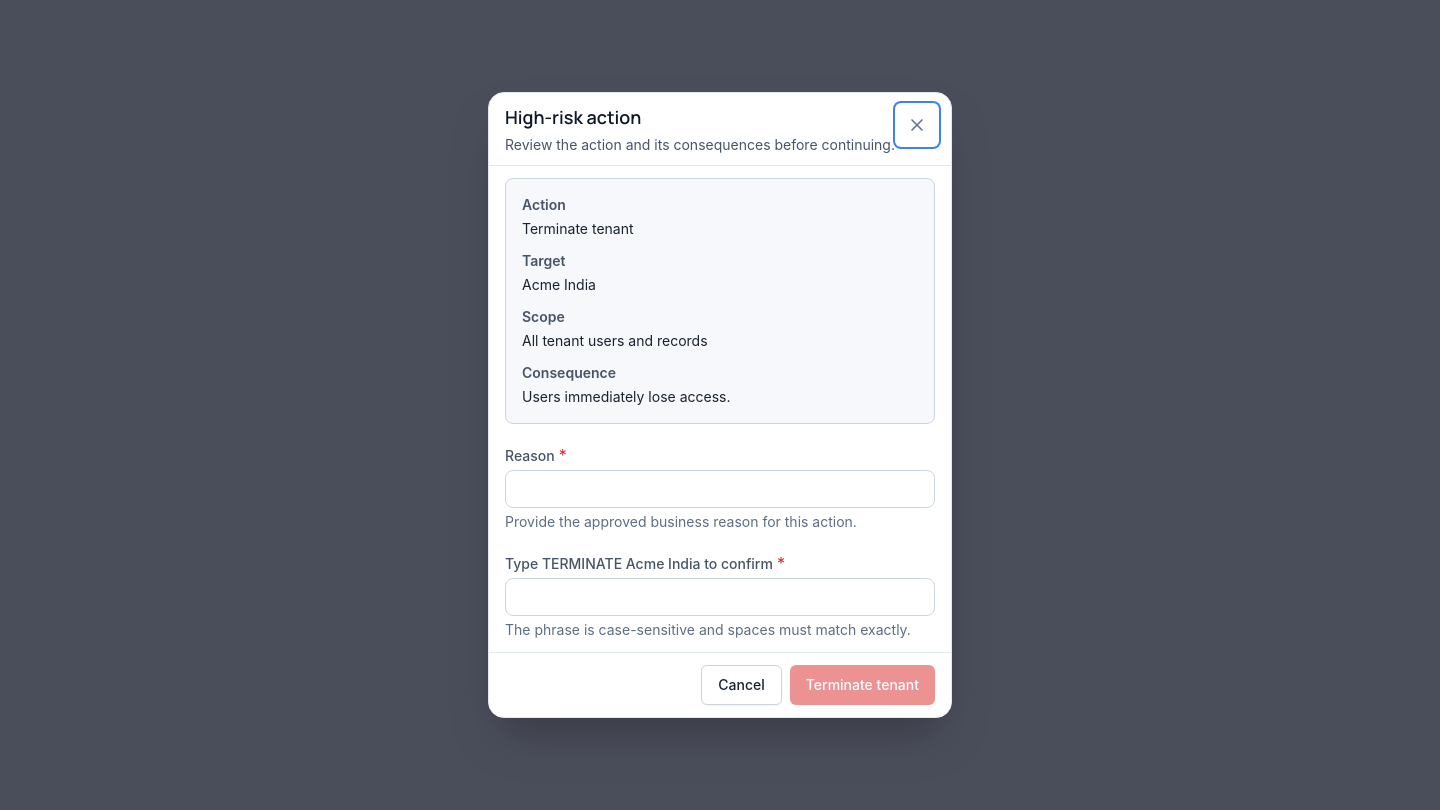
Test case: HighRiskActionDialog › preserves both values and shows friendly recovery when confirmation fails
Type "Security review approved" into the field labelled "Reason" at x=720, y=489, box [505, 470, 935, 508]
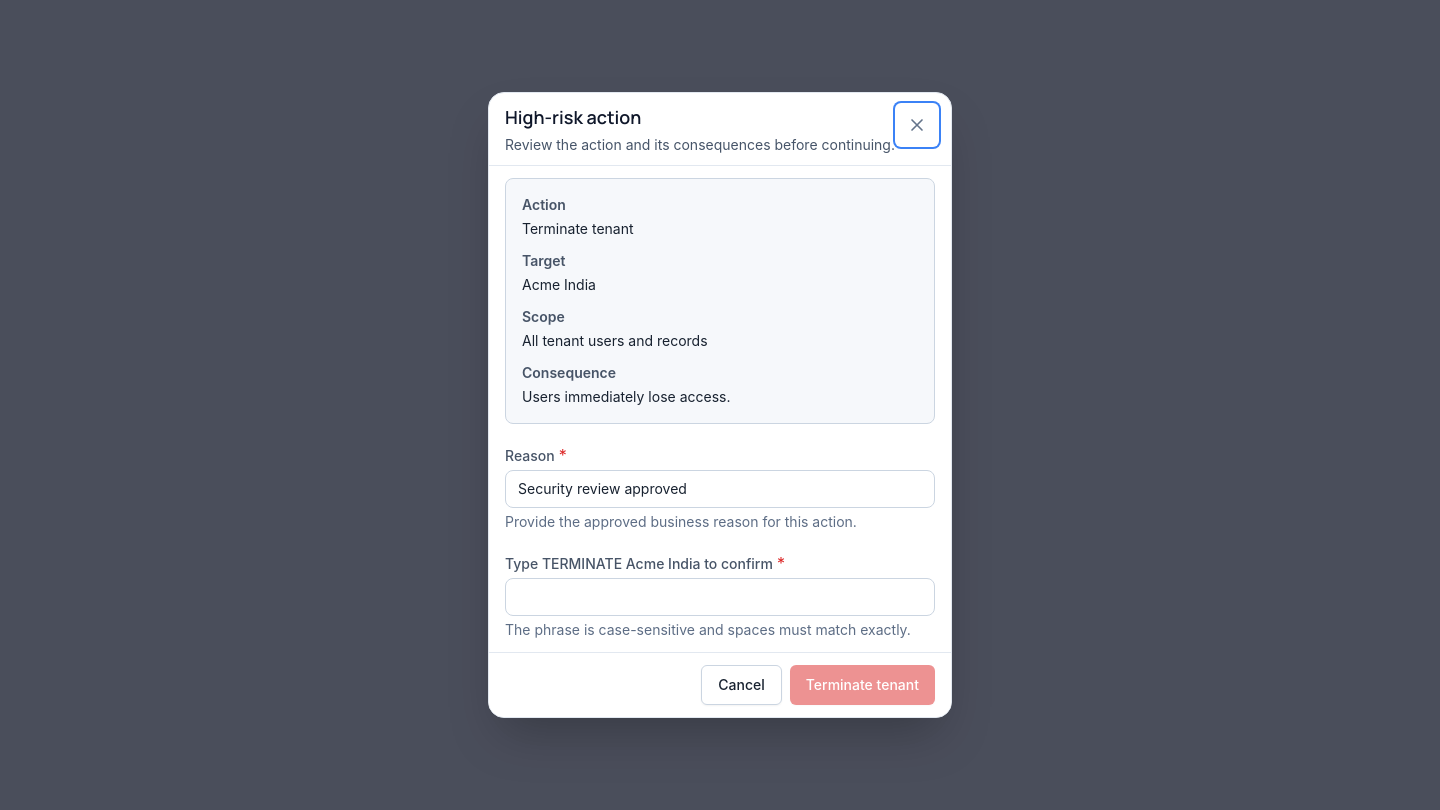
Type "TERMINATE Acme India" into the field labelled "Type TERMINATE Acme India to confirm" at x=720, y=597, box [505, 578, 935, 616]
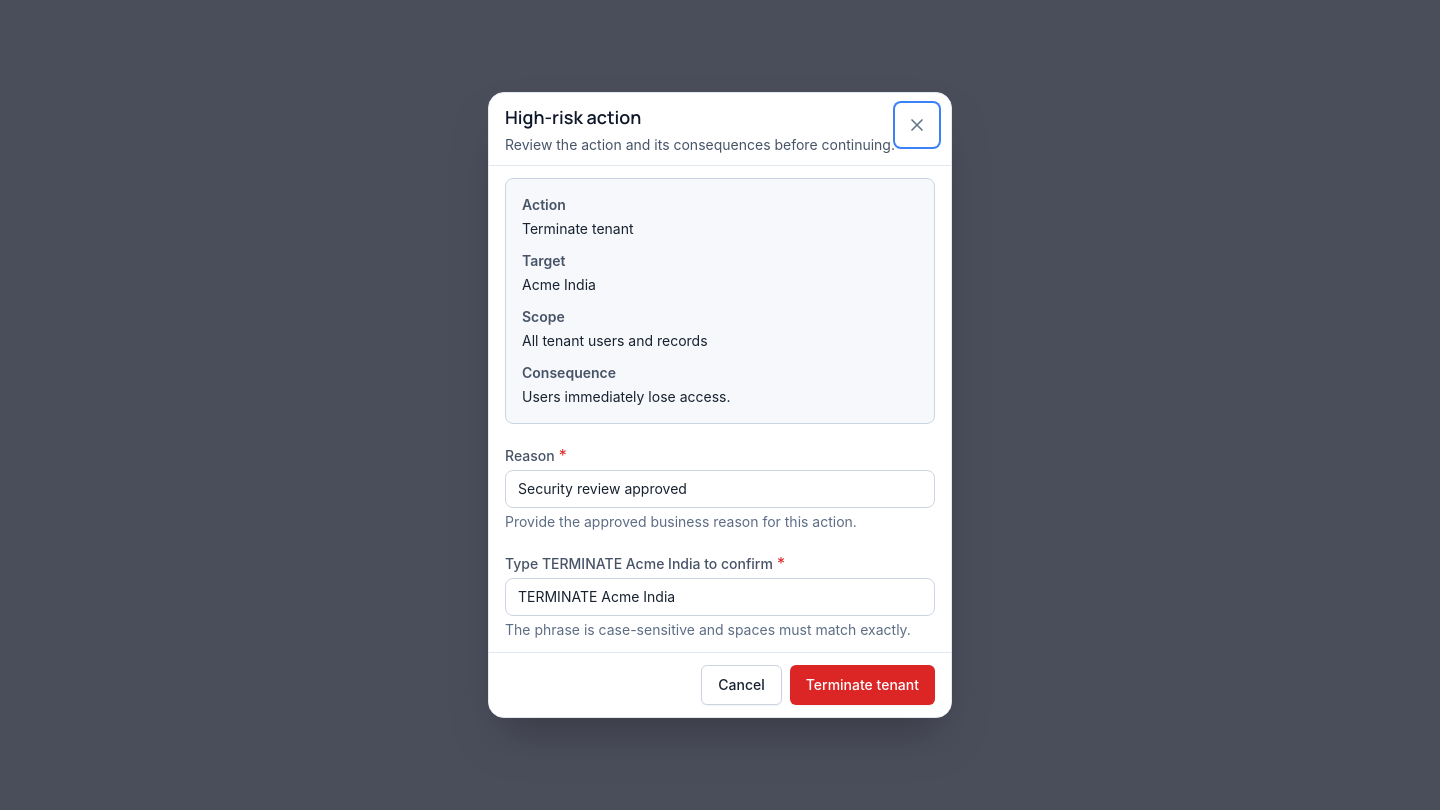
Click the button "Terminate tenant" at x=862, y=685, box [790, 665, 935, 705]
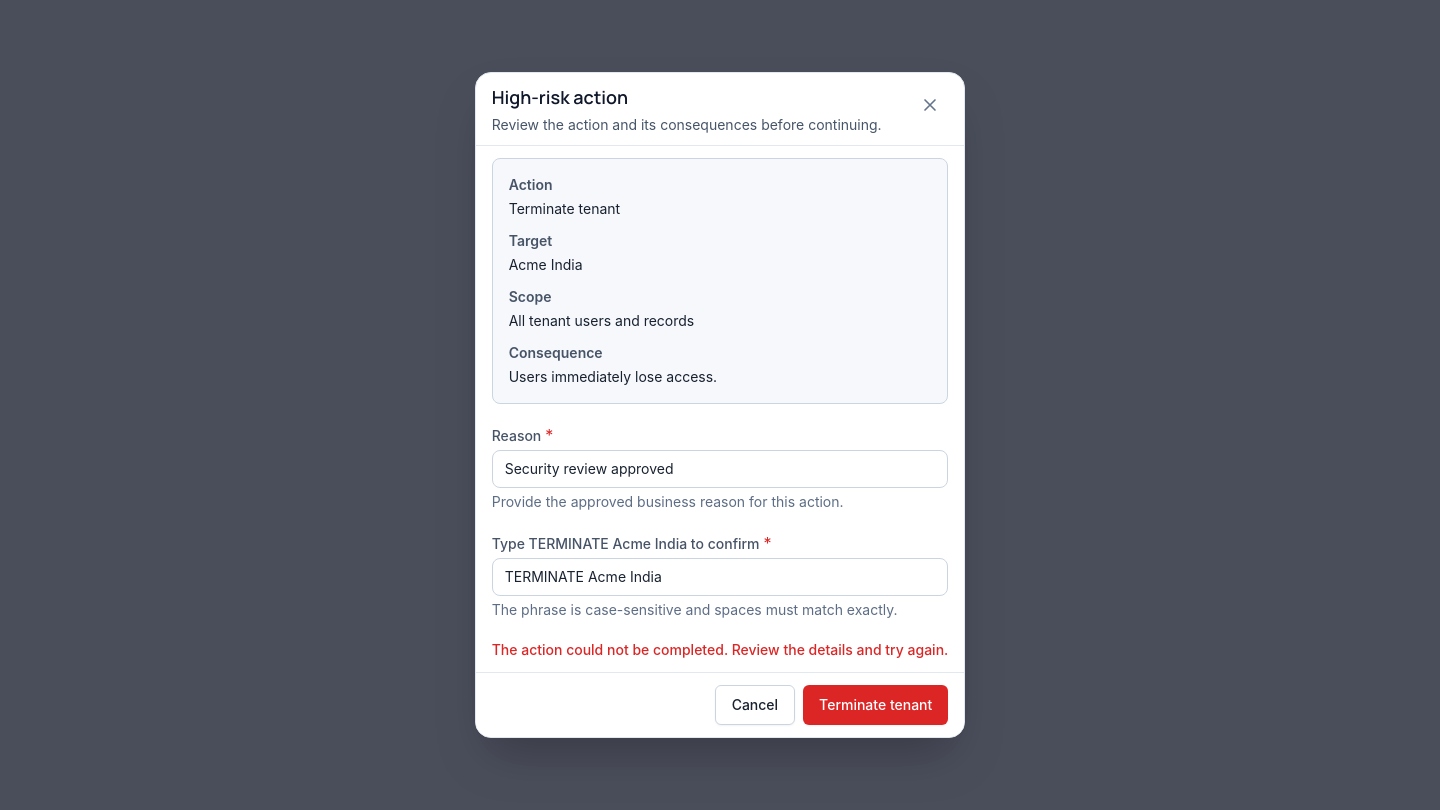
Check: the button "Cancel" is enabled, box [715, 685, 795, 725]
Check: the message "The action could not be completed. Review the details and try again." is shown, box [492, 640, 948, 660]
Check: the message shows "could not be completed", box [492, 641, 948, 658]
